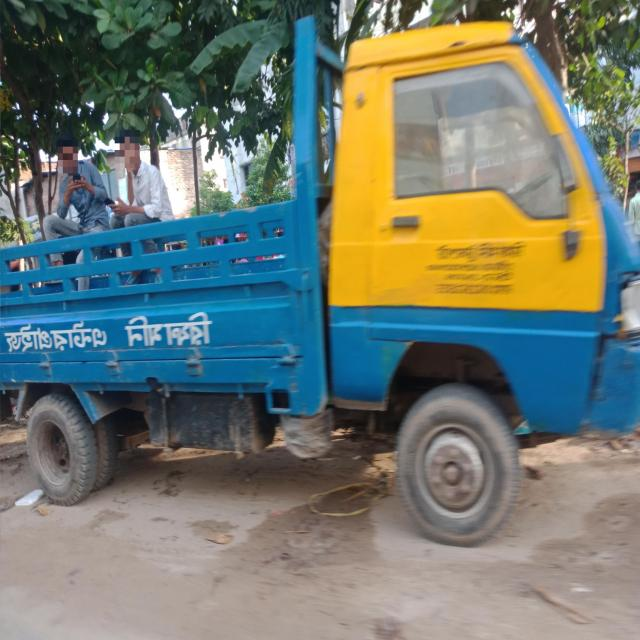truck: (0, 16, 640, 547)
